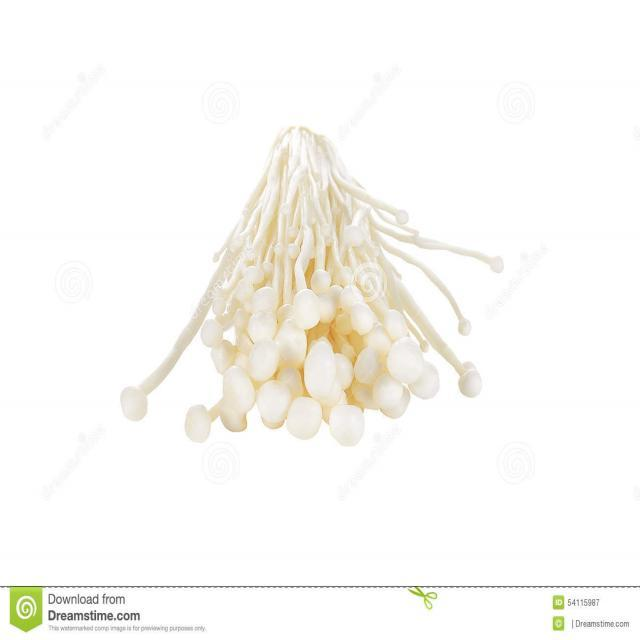Flammulina velutiper: (120, 130, 501, 442)
